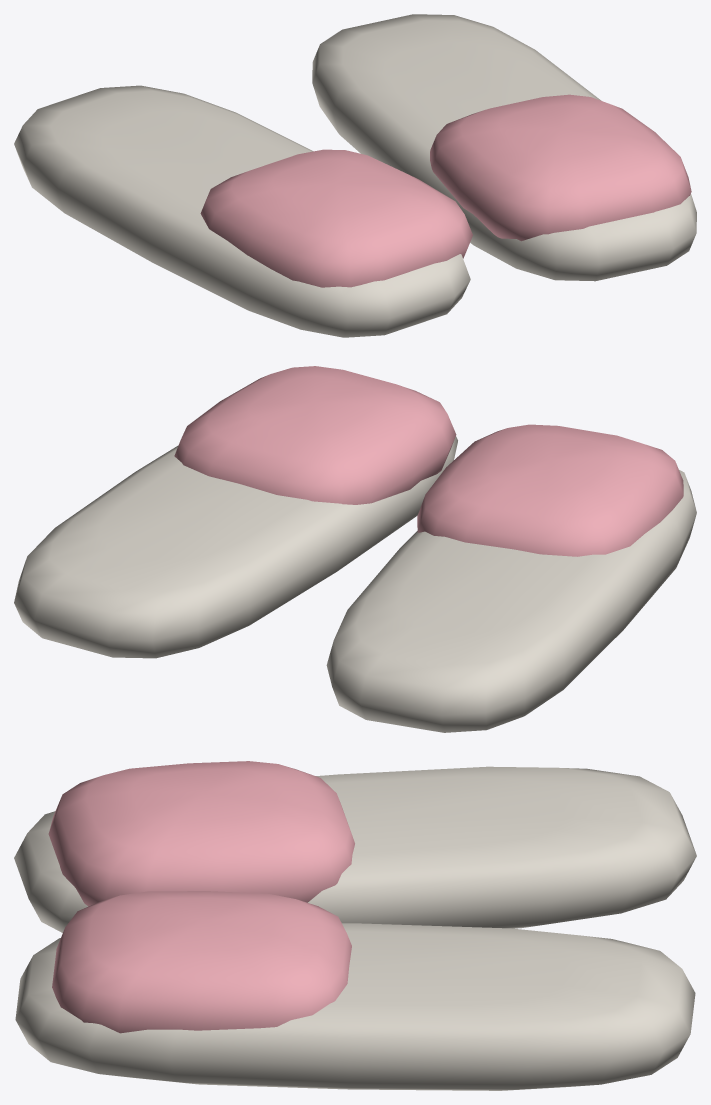
File: slippers.glb
The picture shows the model from 3 angles, top to bottom: view 1: azimuth 30°, elevation 25°; view 2: azimuth 150°, elevation 25°; view 3: azimuth 270°, elevation 25°; orthographic projection. The views are drawn at different scales.
Parts seen in each view (by area): view 1: slippers_pair; view 2: slippers_pair; view 3: slippers_pair.
Part boxes in pixels (x1,y1,x2,y2): slippers_pair: [14, 14, 696, 337]; slippers_pair: [14, 366, 696, 732]; slippers_pair: [14, 761, 696, 1090].
Bounding box in the file's own units: 0.2595 × 0.0525 × 0.2703.
